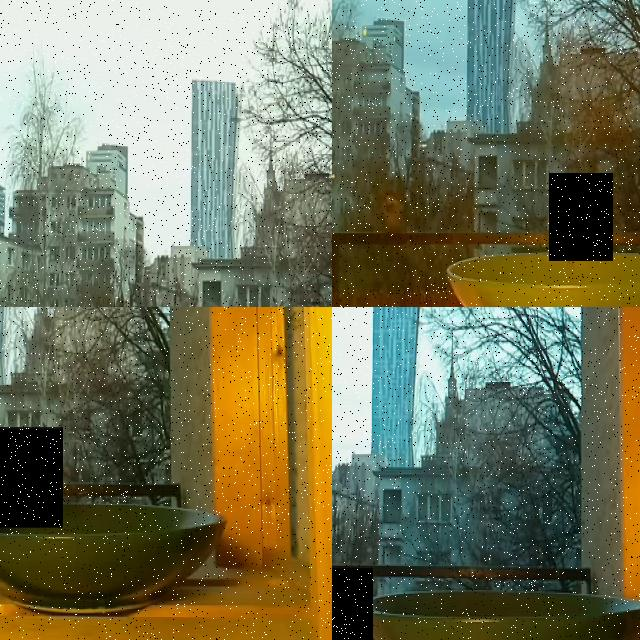Bogatka: (0, 427, 63, 527)
Modraszka: (549, 173, 613, 261), (332, 568, 373, 640)
